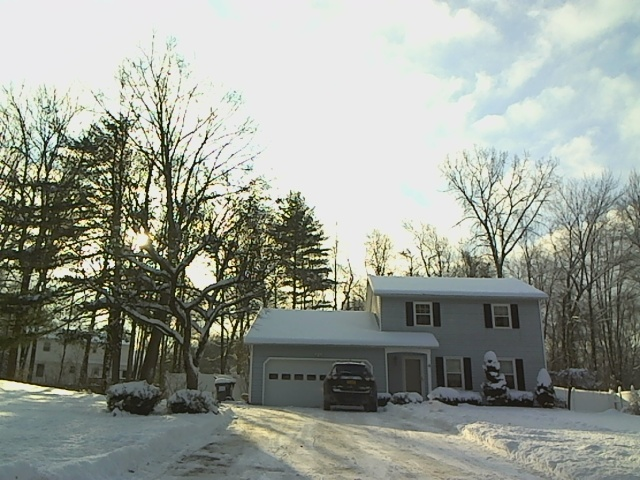Ploughed: (215, 403, 489, 478)
